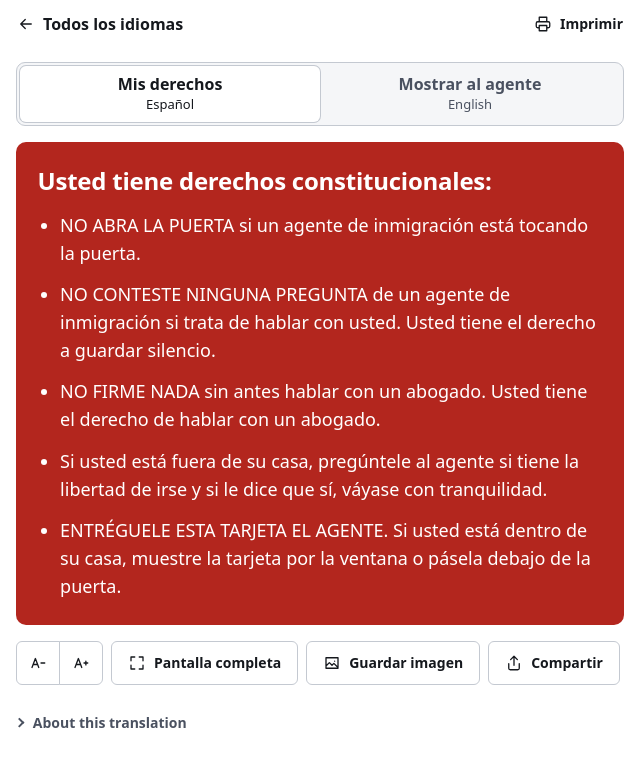
card view › switches to the English side for the officer
The width and height of the screenshot is (641, 781).
Click the button "Mostrar al agente English": (470, 94) [320,66,620,122]
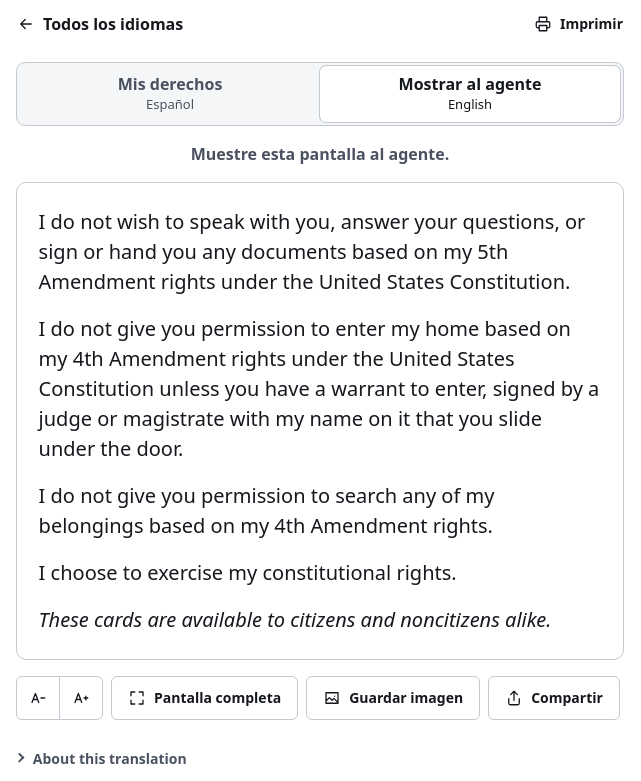
Check: the text "5th Amendment" is shown, box [39,208,585,295]
